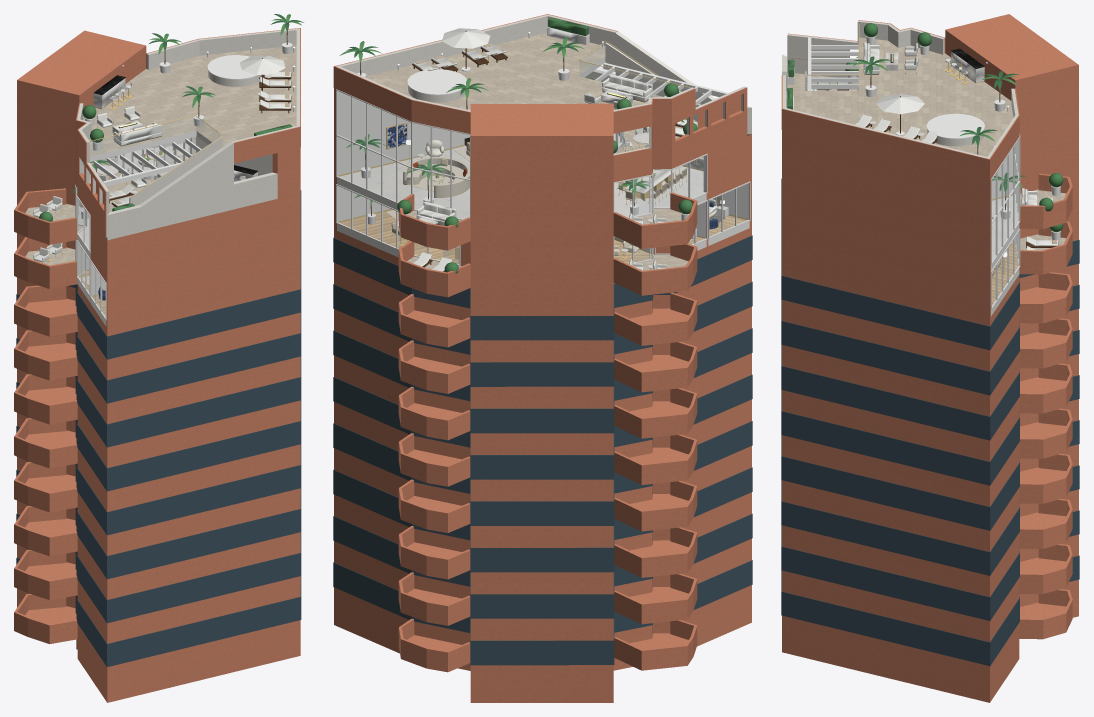
The model's file is penthouse.glb.
The picture shows the model from 3 angles, left to right: view 1: azimuth 30°, elevation 25°; view 2: azimuth 150°, elevation 25°; view 3: azimuth 270°, elevation 25°; orthographic projection. The views are drawn at different scales.
Visible parts, largest first — view 1: T|main|Tower, T|main|Tower glass, L1|main|Stucco terracotta, L3|main|Roof deck, L0|main|Stucco terracotta, L2|main|Stucco white, L3|main|Stucco terracotta, L2|main|Stucco terracotta, L3|main|Stucco white, L3|main|Fabric white, L3|main|Lacquer white, L2|main|Lacquer white (+7 smaller); view 2: T|main|Tower, T|main|Tower glass, L3|main|Stucco terracotta, L1|main|Stucco terracotta, L2|main|Stucco terracotta, L0|main|Stucco terracotta, L3|main|Roof deck, L1|main|Marble white, L3|main|Stucco white, L1|main|Wall white, L1|main|Frame white, L2|main|Stucco white (+14 smaller); view 3: T|main|Tower, T|main|Tower glass, L1|main|Stucco terracotta, L2|main|Stucco terracotta, L3|main|Stucco terracotta, L0|main|Stucco terracotta, L3|main|Roof deck, L3|main|Stucco white, L3|main|Fabric white, L2|main|Lacquer white, L3|main|Lacquer white, L2|main|Stucco white (+7 smaller).
Part boxes in pixels (x1,y1,x2,y2): T|main|Tower: [14, 242, 300, 702]; T|main|Tower glass: [16, 190, 301, 667]; L1|main|Stucco terracotta: [14, 154, 300, 284]; L3|main|Roof deck: [83, 45, 296, 156]; L0|main|Stucco terracotta: [14, 198, 300, 328]; L2|main|Stucco white: [79, 136, 277, 240]; L3|main|Stucco terracotta: [17, 28, 300, 163]; L2|main|Stucco terracotta: [17, 108, 300, 237]; L3|main|Stucco white: [77, 28, 299, 162]; L3|main|Fabric white: [97, 55, 290, 145]; L3|main|Lacquer white: [84, 42, 294, 150]; L2|main|Lacquer white: [94, 137, 257, 186]; T|main|Tower: [334, 227, 751, 702]; T|main|Tower glass: [333, 235, 752, 665]; L3|main|Stucco terracotta: [333, 14, 695, 165]; L1|main|Stucco terracotta: [334, 134, 751, 260]; L2|main|Stucco terracotta: [334, 87, 747, 214]; L0|main|Stucco terracotta: [334, 180, 751, 307]; L3|main|Roof deck: [366, 32, 663, 109]; L1|main|Marble white: [339, 146, 704, 224]; L3|main|Stucco white: [336, 14, 694, 111]; L1|main|Wall white: [337, 121, 705, 191]; L1|main|Frame white: [336, 89, 707, 220]; L2|main|Stucco white: [585, 31, 751, 155]; T|main|Tower: [782, 231, 1078, 702]; T|main|Tower glass: [781, 178, 1079, 665]; L1|main|Stucco terracotta: [782, 141, 1078, 272]; L2|main|Stucco terracotta: [782, 33, 1078, 227]; L3|main|Stucco terracotta: [781, 14, 1078, 180]; L0|main|Stucco terracotta: [782, 186, 1078, 318]; L3|main|Roof deck: [786, 37, 1013, 156]; L3|main|Stucco white: [782, 20, 1018, 158]; L3|main|Fabric white: [855, 42, 967, 143]; L2|main|Lacquer white: [787, 37, 858, 90]; L3|main|Lacquer white: [786, 36, 1008, 139]; L2|main|Stucco white: [782, 34, 858, 90].
Size of the model in its own units: 22.62 by 38.24 by 18.26.
Materials: 74 (38 with a texture image).
